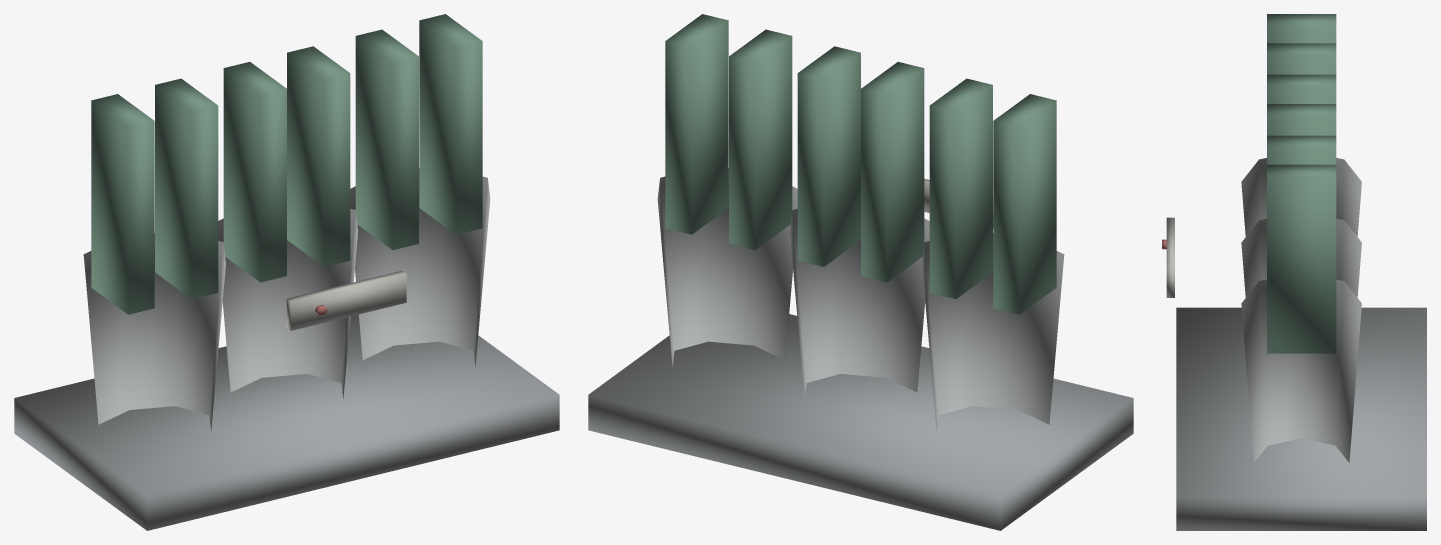
The model's file is flower_bucket_rack__wide.glb.
3 renders of one model, left to right at view 1: azimuth 30°, elevation 25°; view 2: azimuth 150°, elevation 25°; view 3: azimuth 270°, elevation 25°, orthographic. The views are drawn at different scales.
Parts seen in each view (by area): view 1: world; view 2: world; view 3: world.
Part boxes in pixels (<box>): world: <box>14,14,559,530</box>; world: <box>588,14,1133,530</box>; world: <box>1162,14,1426,530</box>.
Size of the model in its own units: 0.9672 by 0.81 by 0.571.
